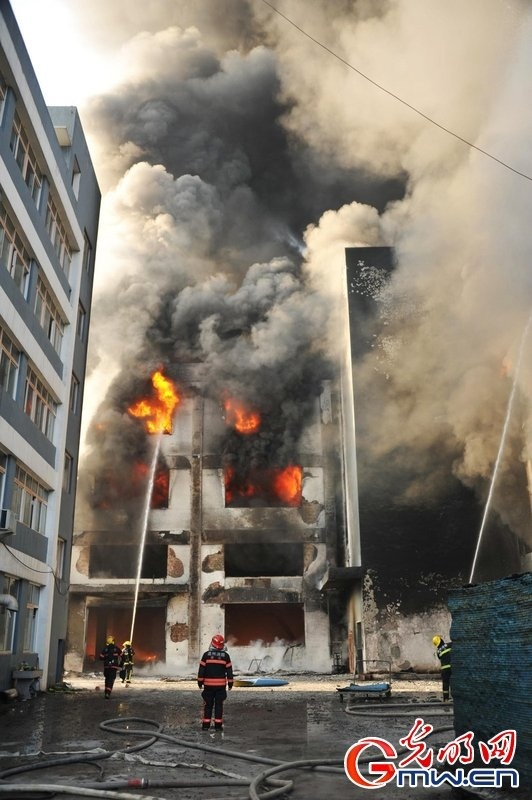fire: (217, 401, 304, 505), (127, 370, 178, 435), (223, 399, 263, 432), (277, 463, 302, 500)
